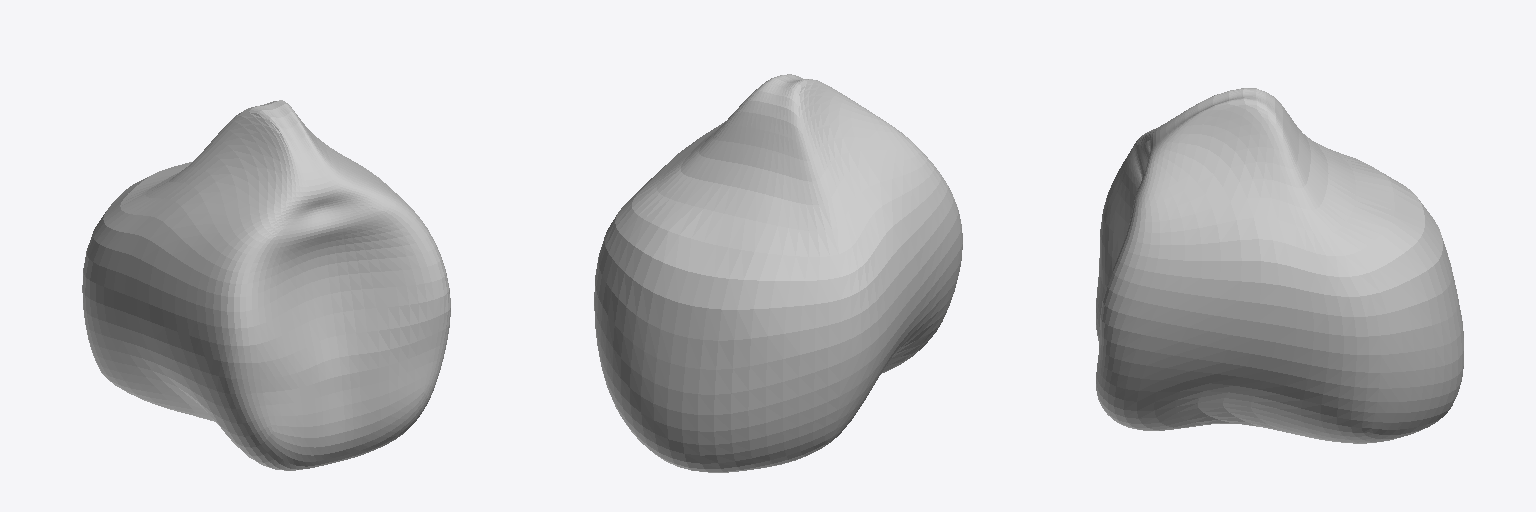
File: vertabrae11.obj
3 renders of one model, left to right at view 1: azimuth 30°, elevation 25°; view 2: azimuth 150°, elevation 25°; view 3: azimuth 270°, elevation 25°, orthographic.
Visible parts, largest first — view 1: Cube.105_Cube.107; view 2: Cube.105_Cube.107; view 3: Cube.105_Cube.107.
Part boxes in pixels (bbox=[...]): Cube.105_Cube.107: bbox=[82, 100, 450, 470]; Cube.105_Cube.107: bbox=[594, 74, 962, 472]; Cube.105_Cube.107: bbox=[1096, 88, 1463, 443].
Size of the model in its own units: 0.0736 by 0.0842 by 0.0868.